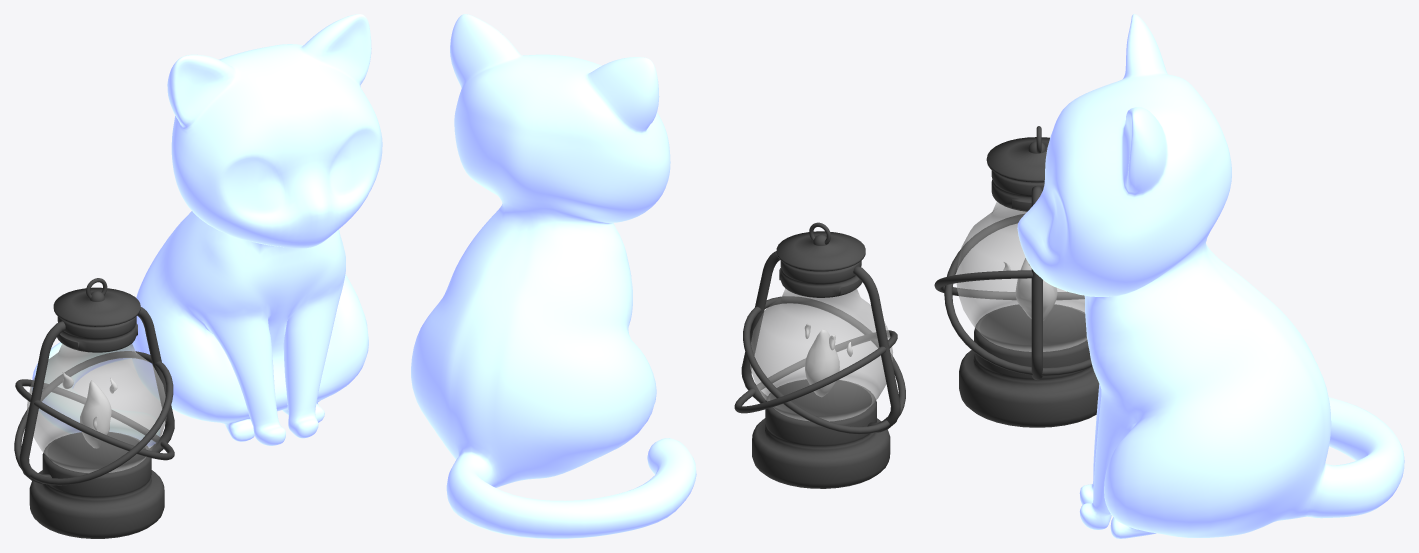
The picture shows the model from 3 angles, left to right: view 1: azimuth 30°, elevation 25°; view 2: azimuth 150°, elevation 25°; view 3: azimuth 270°, elevation 25°; orthographic projection. The views are drawn at different scales.
Visible parts, largest first — view 1: кот, Цилиндр, огонек; view 2: кот, Цилиндр, огонек; view 3: кот, Цилиндр, огонек.
Boxes of the visible parts, x1,y1,x2,y2 form: кот: (32, 14, 382, 446); Цилиндр: (14, 278, 174, 538); огонек: (62, 372, 117, 448); кот: (411, 14, 696, 538); Цилиндр: (734, 222, 905, 488); огонек: (804, 323, 852, 396); кот: (1017, 14, 1404, 538); Цилиндр: (934, 126, 1099, 427); огонек: (1003, 258, 1057, 320).
Size of the model in its own units: 125 by 118 by 110.
